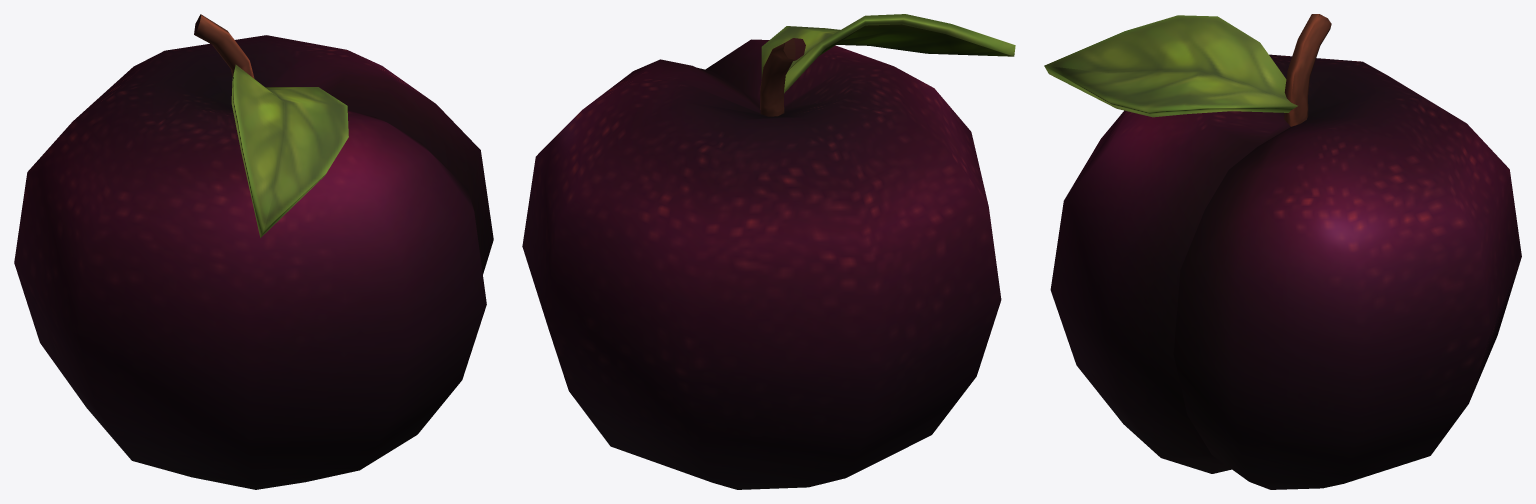
File: Plum_Whole.fbx
3 views of the same model, side by side, from view 1: azimuth 30°, elevation 25°; view 2: azimuth 150°, elevation 25°; view 3: azimuth 270°, elevation 25° (orthographic). The views are drawn at different scales.
Visible parts, largest first — view 1: Plum_Whole; view 2: Plum_Whole; view 3: Plum_Whole.
Part boxes in pixels (left/top/right/bottom): Plum_Whole: left=14, top=14, right=493, bottom=489; Plum_Whole: left=522, top=14, right=1015, bottom=489; Plum_Whole: left=1044, top=14, right=1521, bottom=489.
Bounding box in the file's own units: 27.8 × 28.63 × 28.79.
